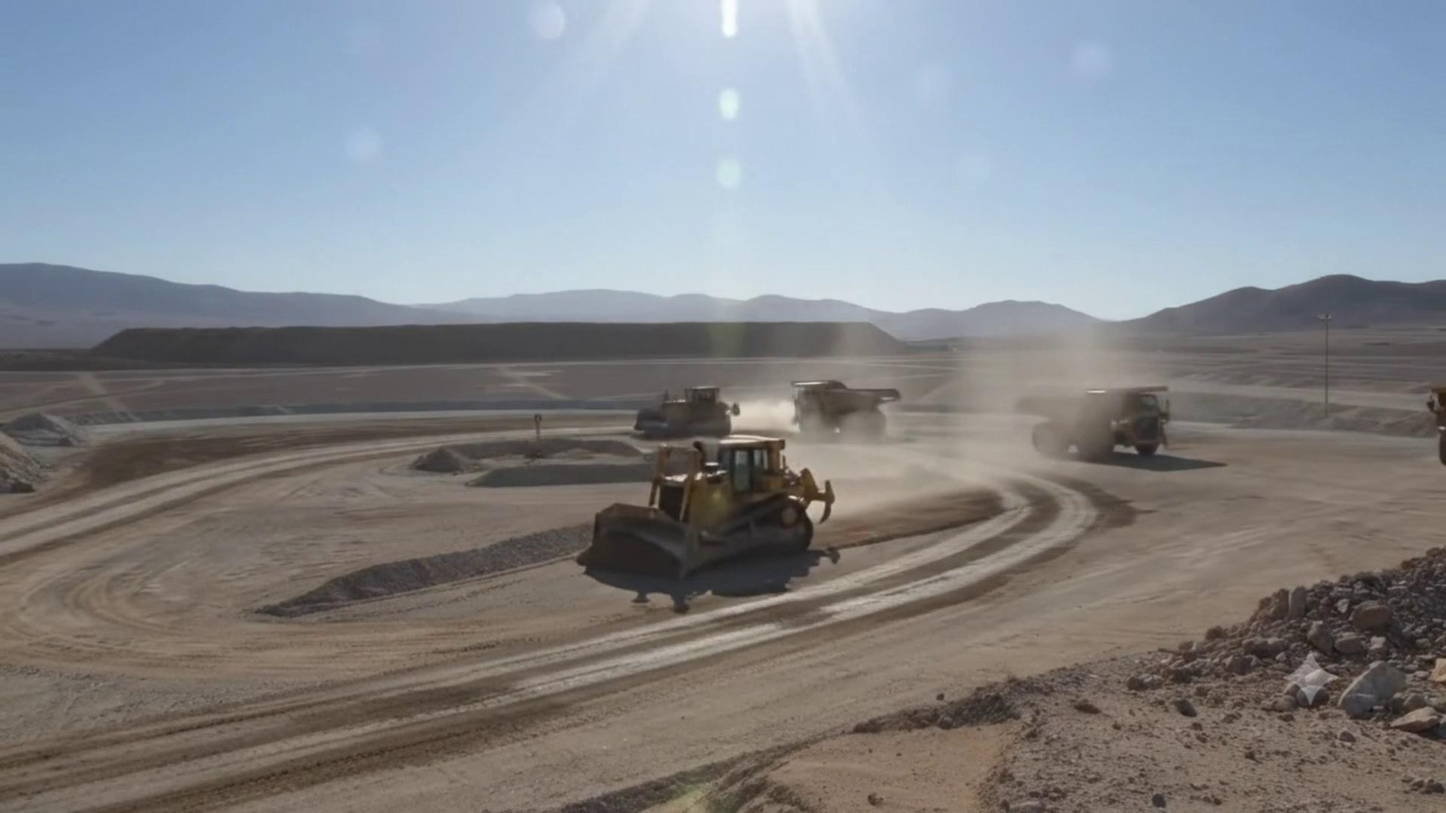CAEX: (1025, 386, 1170, 458), (788, 374, 910, 440), (633, 385, 740, 438)
bulldozer: (577, 435, 834, 577)
